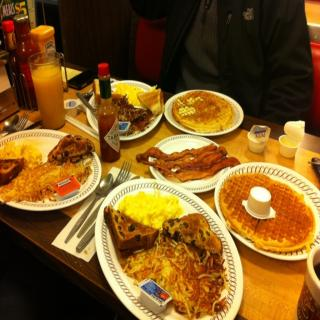Waffle: (219, 172, 316, 250), (172, 90, 234, 132)
